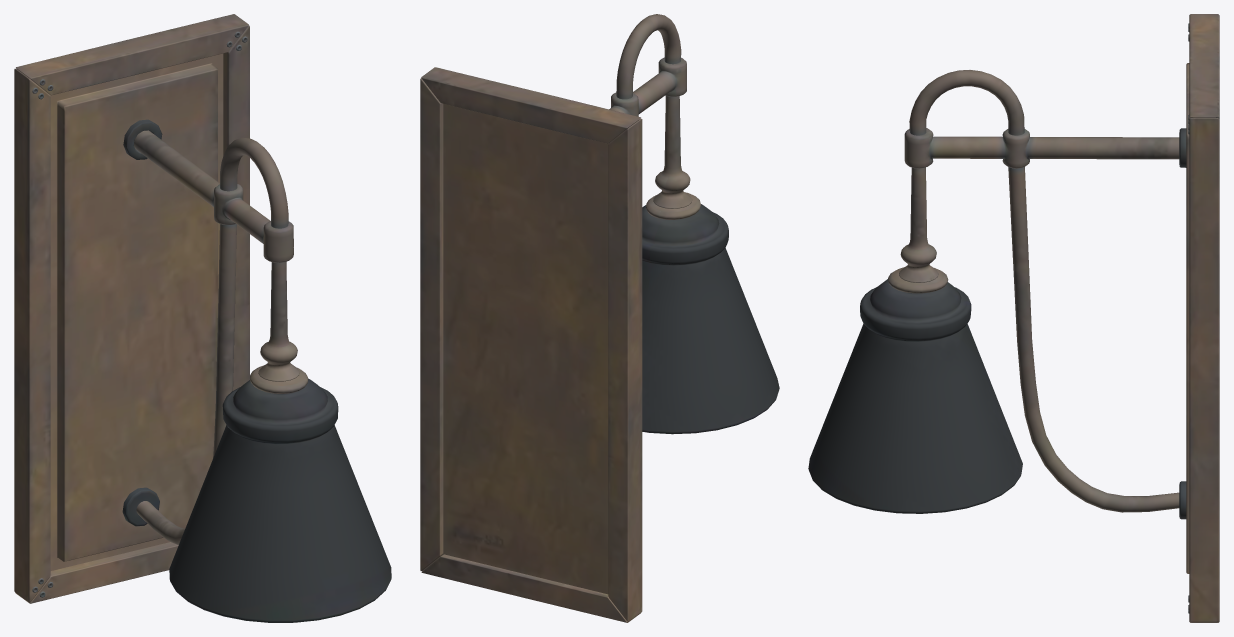
Rendered from industrial_wall_sconce.glb.
3 renders of one model, left to right at view 1: azimuth 30°, elevation 25°; view 2: azimuth 150°, elevation 25°; view 3: azimuth 270°, elevation 25°, orthographic. The views are drawn at different scales.
Visible parts, largest first — view 1: industrial_wall_sconce; view 2: industrial_wall_sconce; view 3: industrial_wall_sconce.
Boxes of the visible parts, bbox=[...] form: industrial_wall_sconce: bbox=[14, 14, 391, 622]; industrial_wall_sconce: bbox=[420, 14, 779, 622]; industrial_wall_sconce: bbox=[808, 14, 1219, 622].
Bounding box in the file's own units: 0.1503 × 0.3418 × 0.2516.
2 materials, 2 textured.
